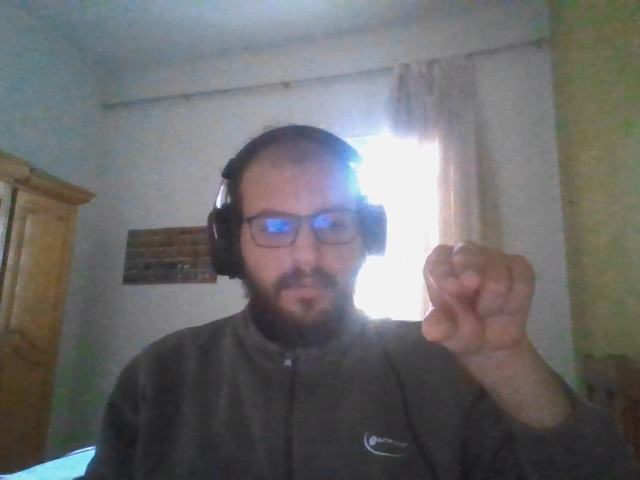No: (427, 243, 535, 351)
